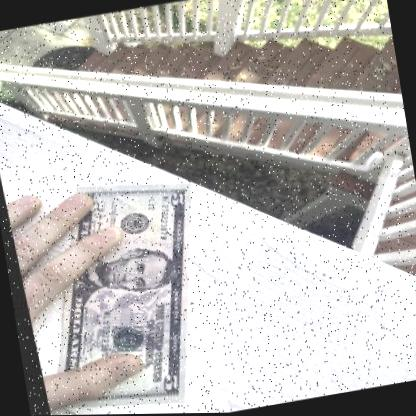five-front: (49, 183, 190, 409)
